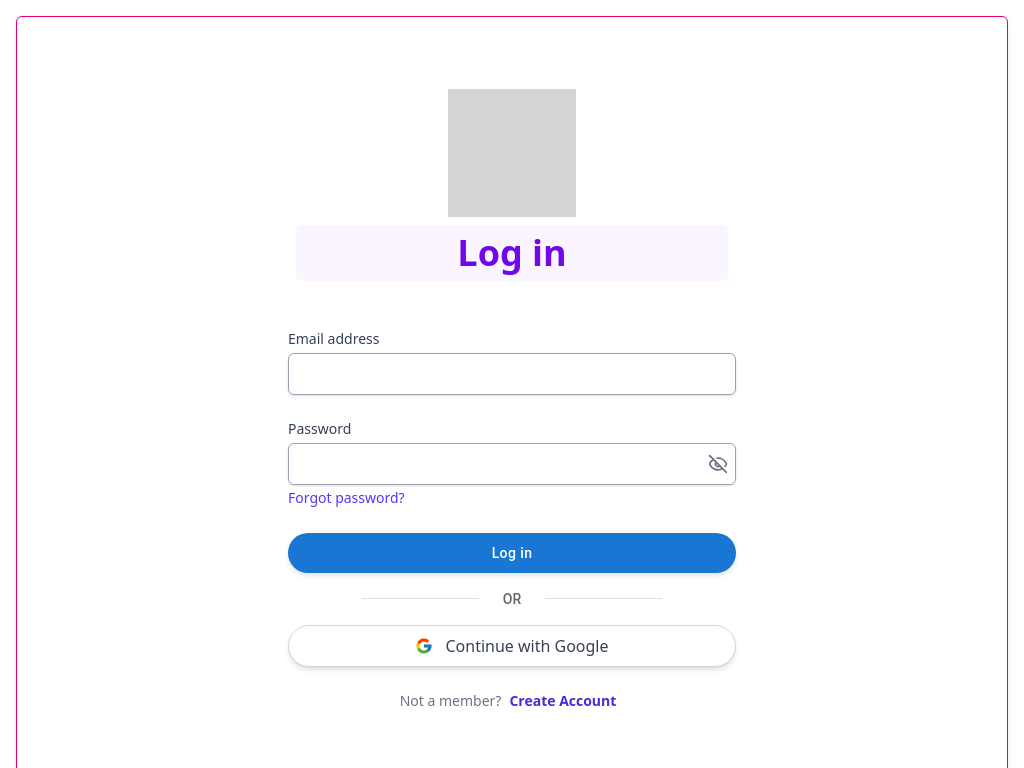
Scenario: Login Component › displays error if form is submitted without input
Click the button "Log in" at (512,553), box [288,533,736,573]
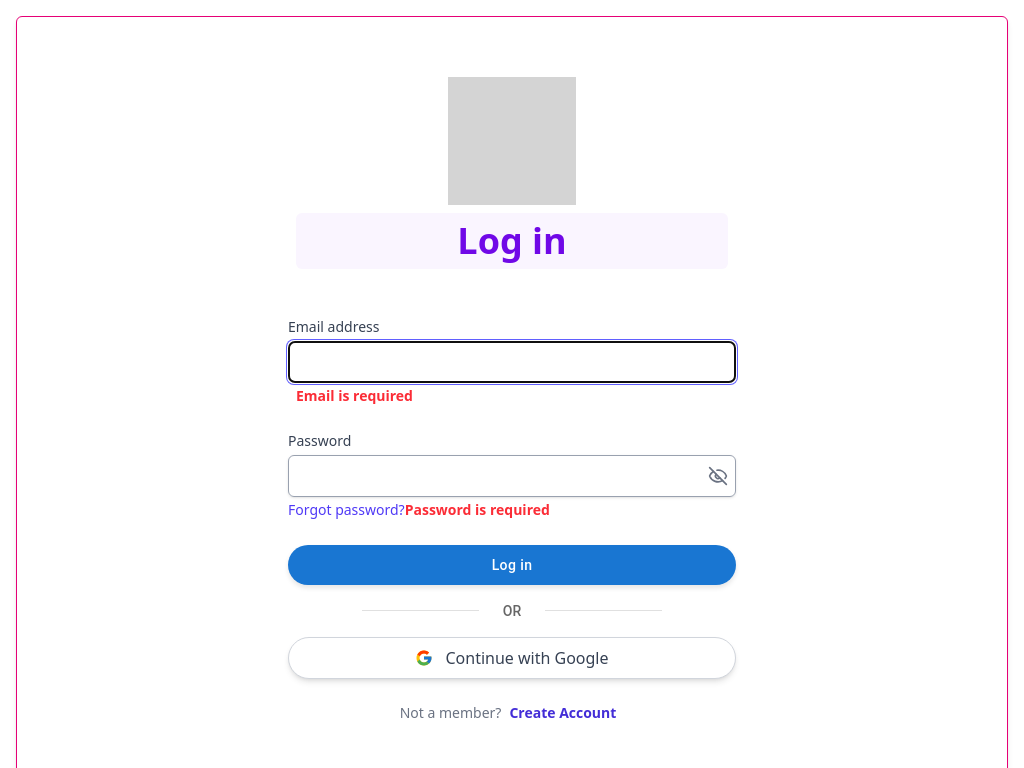
expect the text "Email is required" is shown: met, box [296,386,413,405]
expect the text "Password is required" is shown: met, box [405,500,550,519]
